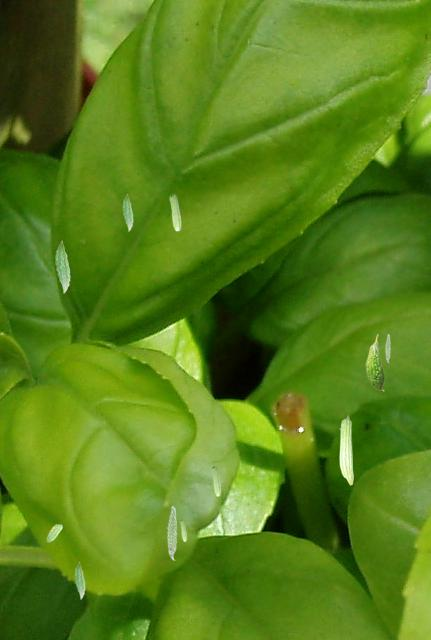ampalaya: (365, 334, 385, 391), (339, 415, 354, 485), (55, 240, 70, 293), (166, 505, 177, 560), (169, 194, 182, 231), (74, 561, 85, 599), (122, 193, 133, 231), (211, 465, 221, 496), (46, 523, 62, 542), (179, 519, 187, 542), (384, 333, 390, 363)
